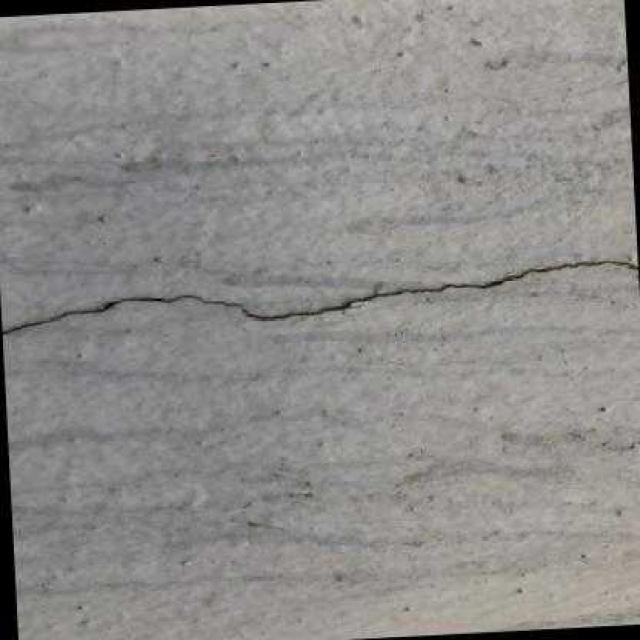D00: (0, 259, 638, 334)
